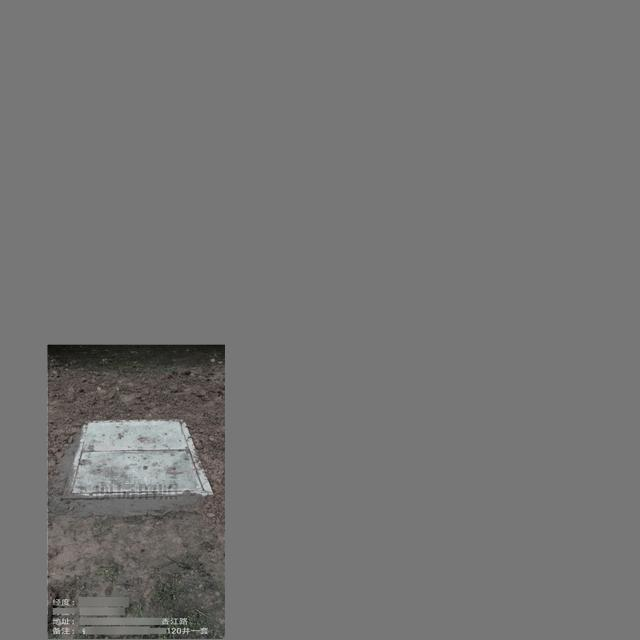good: (82, 413, 203, 493)
